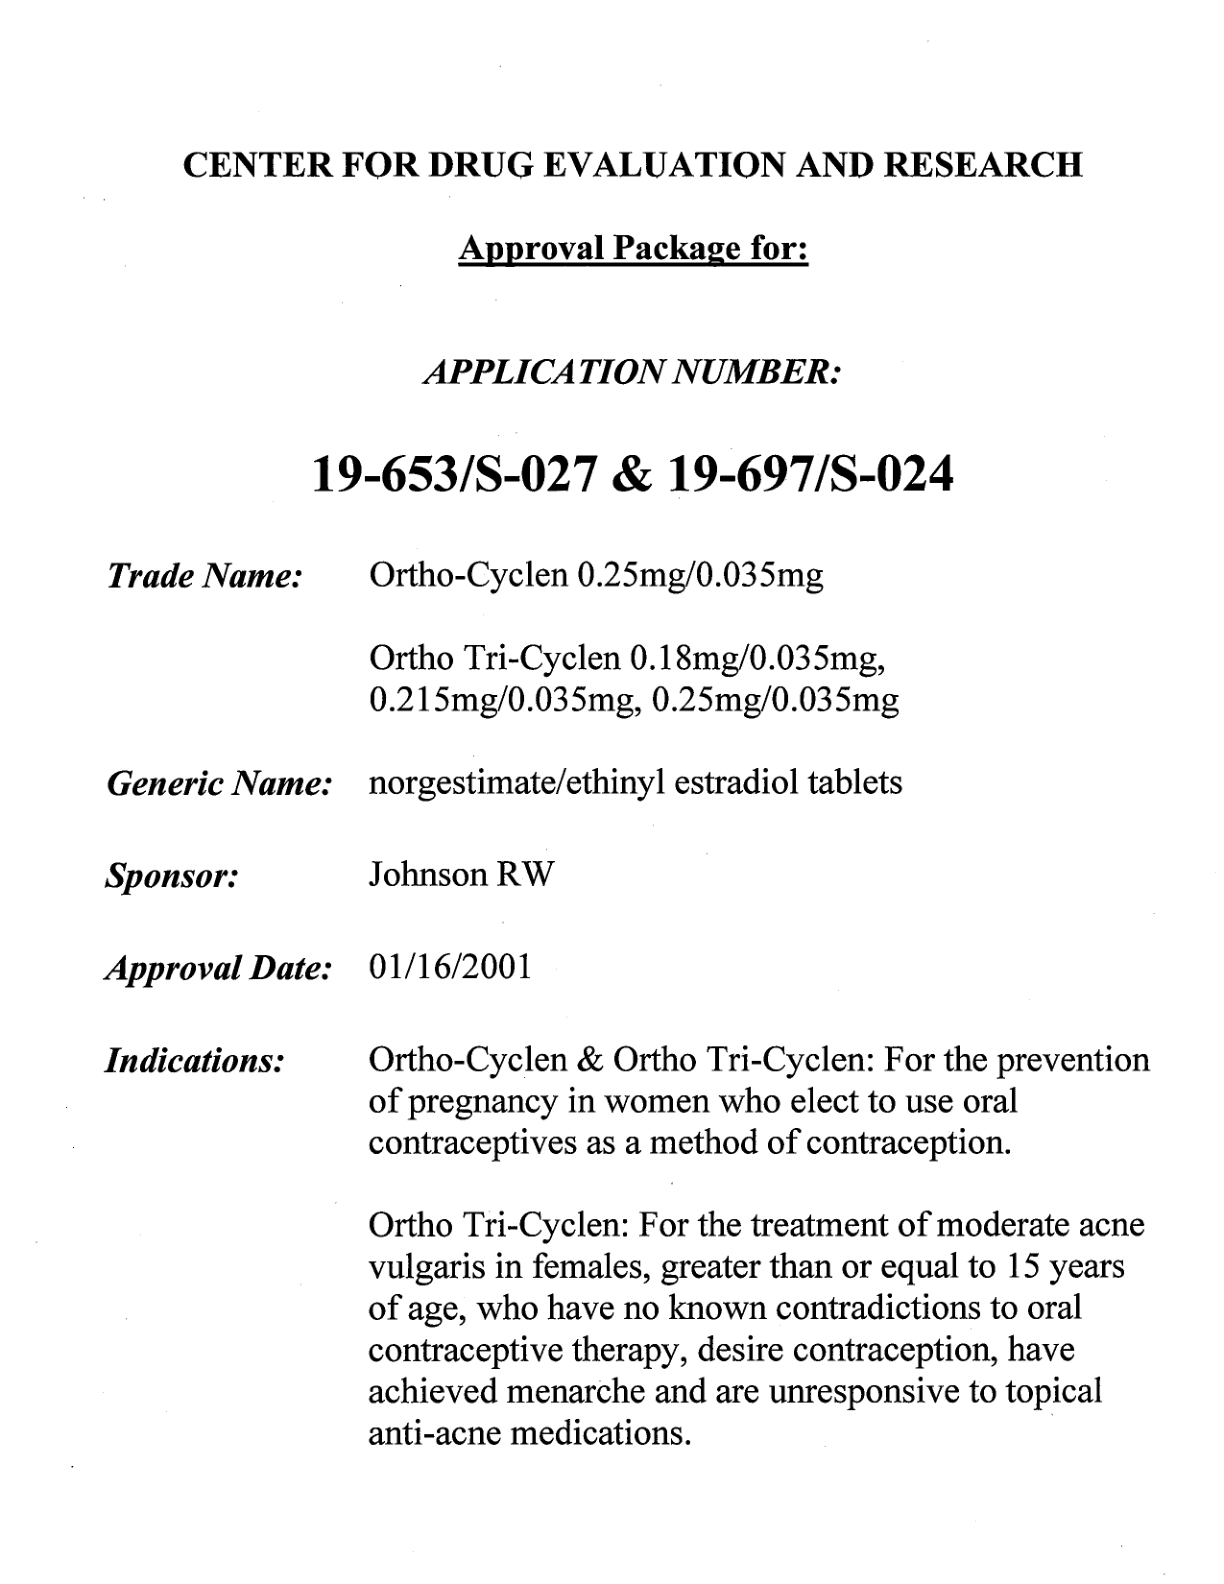nolines: (105, 559, 1149, 1450)
